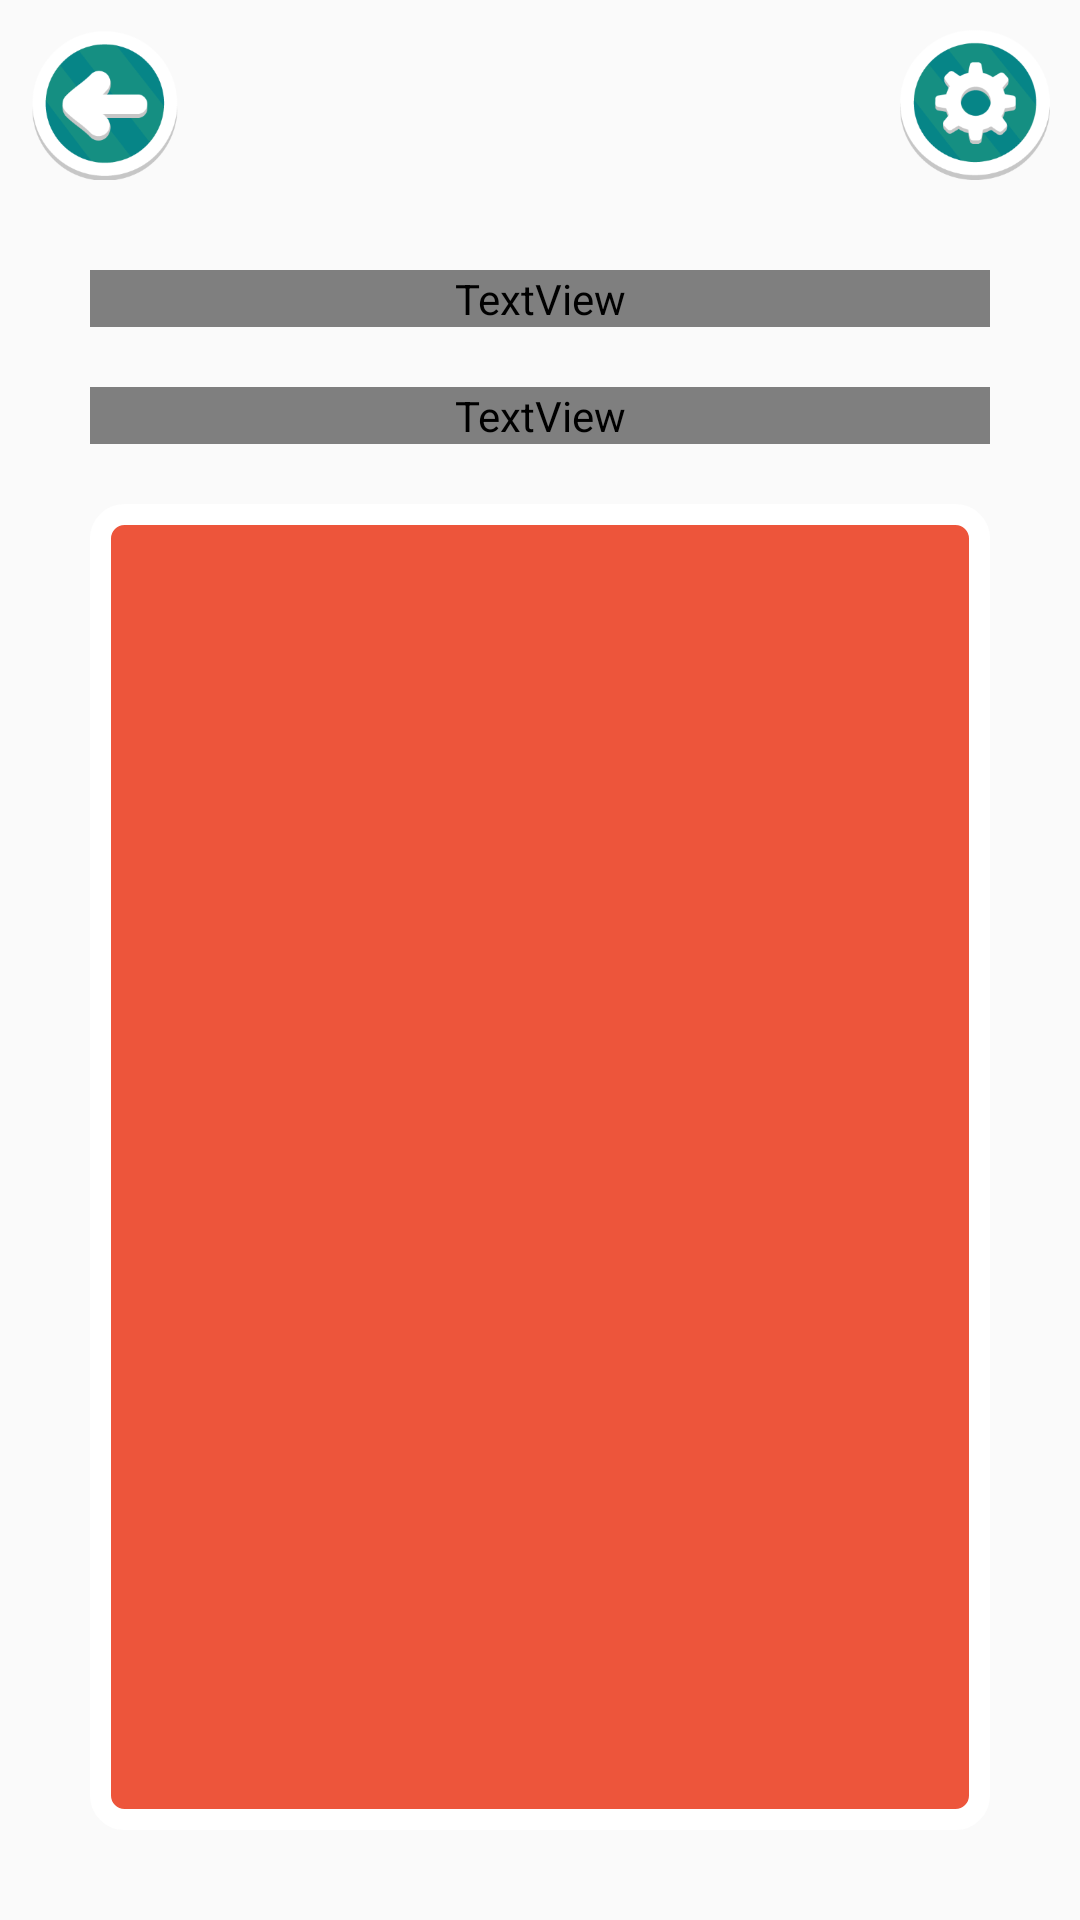

Icons on this 1080px×1920px Android screen, each with its box as (x1, y1, x2, y2):
back: (33, 44, 177, 180)
options: (901, 43, 1050, 180)
